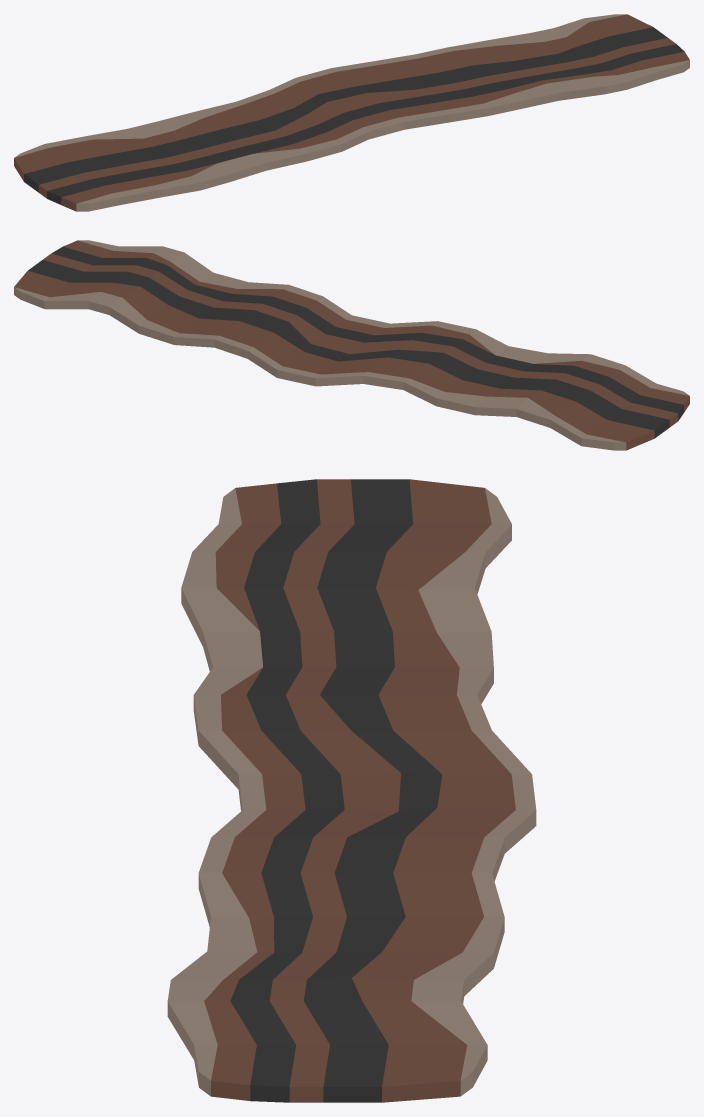
File: Bacon_Burned.glb
3 renders of one model, top to bottom at view 1: azimuth 30°, elevation 25°; view 2: azimuth 150°, elevation 25°; view 3: azimuth 270°, elevation 25°, orthographic. The views are drawn at different scales.
Visible parts, largest first — view 1: Bacon_Burned; view 2: Bacon_Burned; view 3: Bacon_Burned.
Part boxes in pixels (x1,y1,x2,y2): Bacon_Burned: [14, 14, 689, 211]; Bacon_Burned: [14, 240, 689, 450]; Bacon_Burned: [167, 479, 536, 1102].
Size of the model in its own units: 1.16 by 0.0213 by 0.2968.
